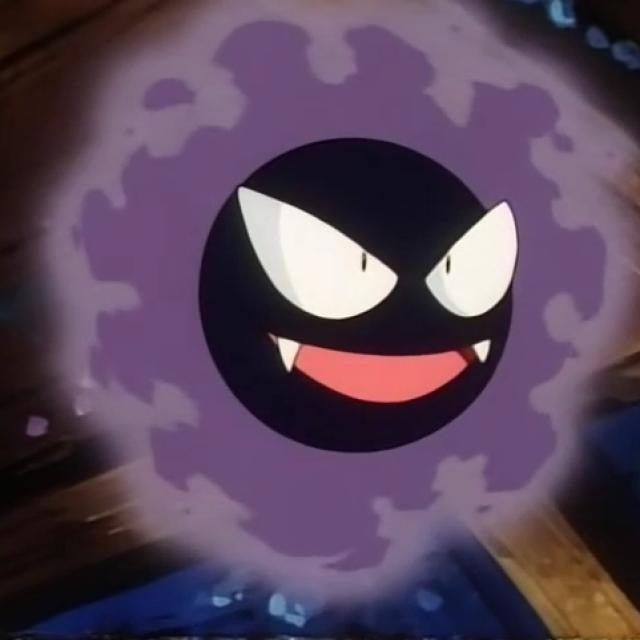Gastly: (55, 4, 626, 583)
